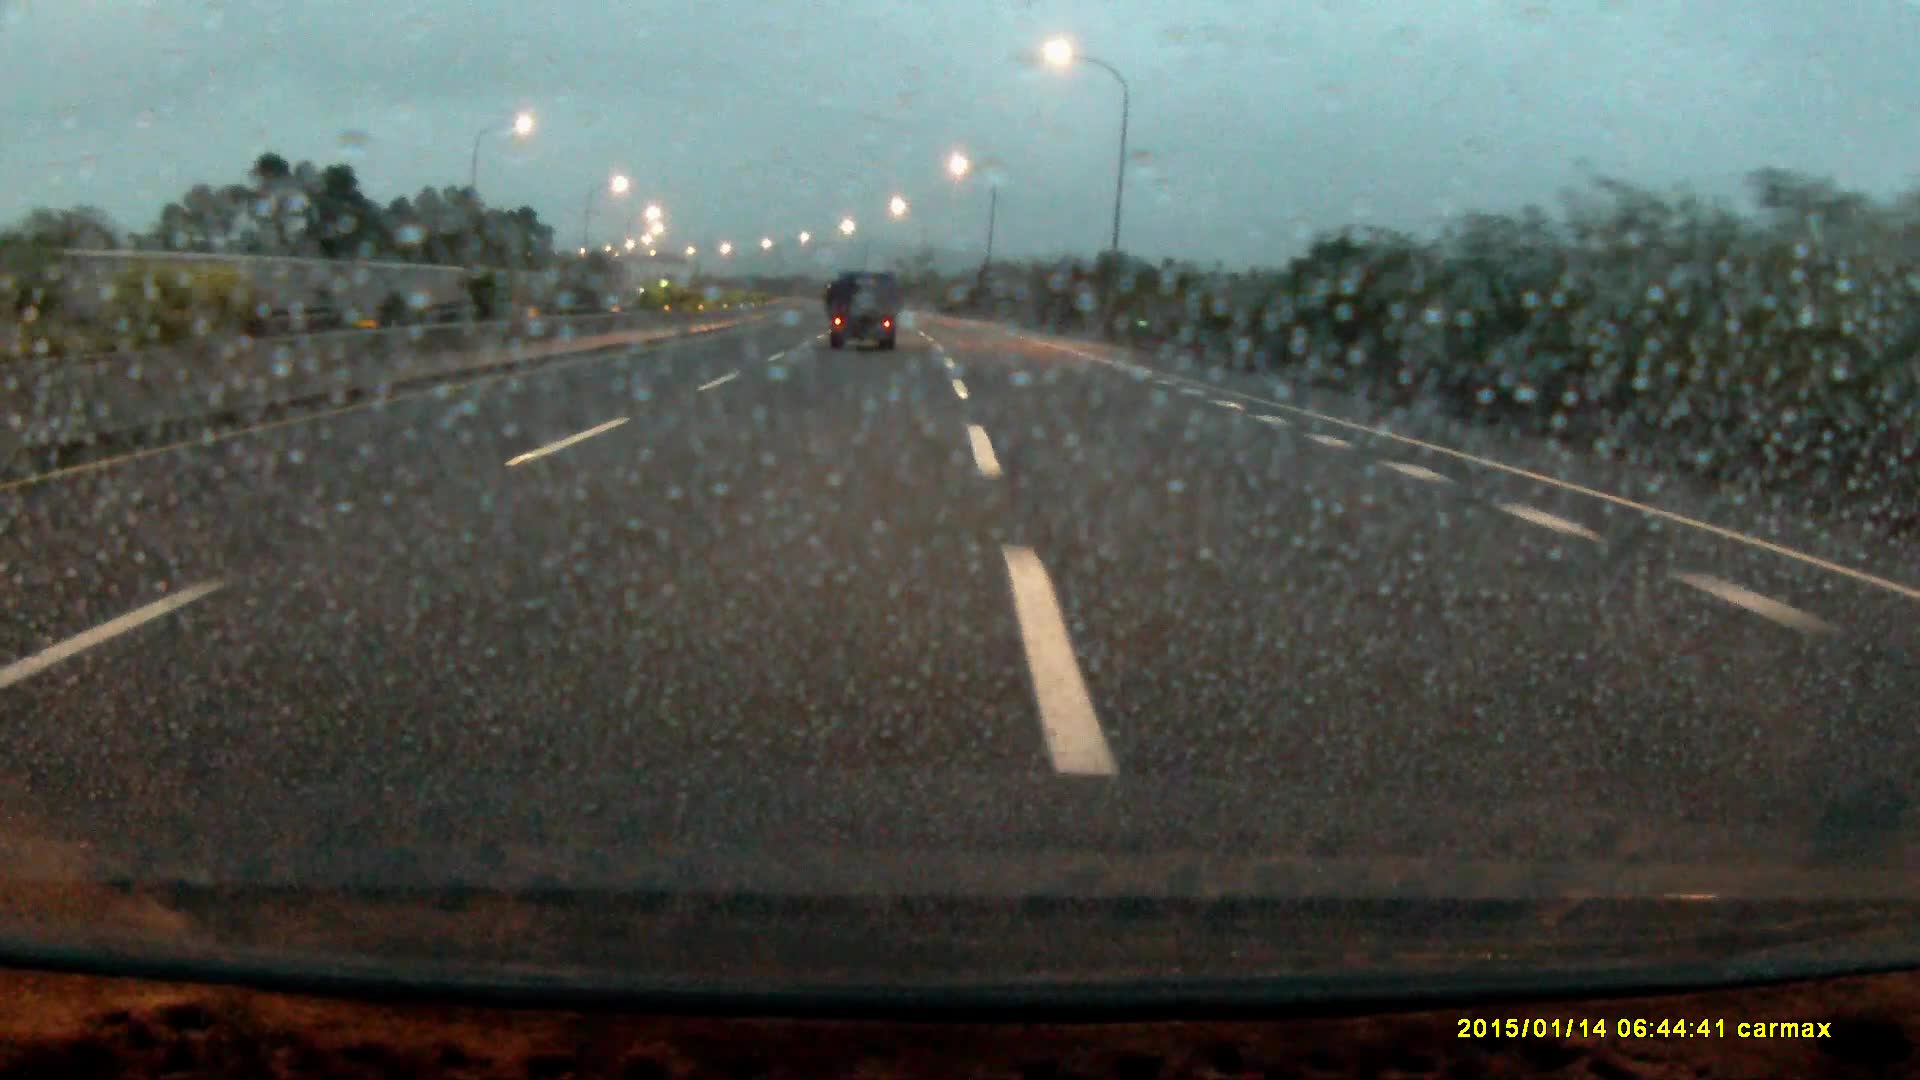vehicle: (827, 268, 901, 353)
